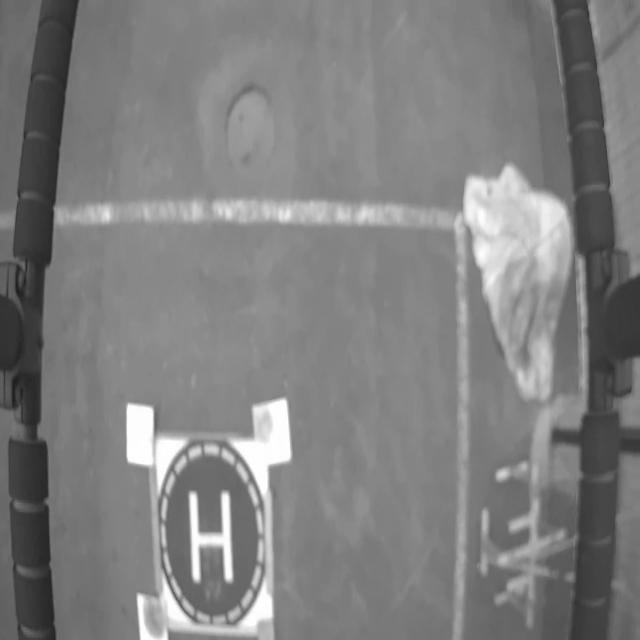Helipad: (188, 489, 234, 585)
